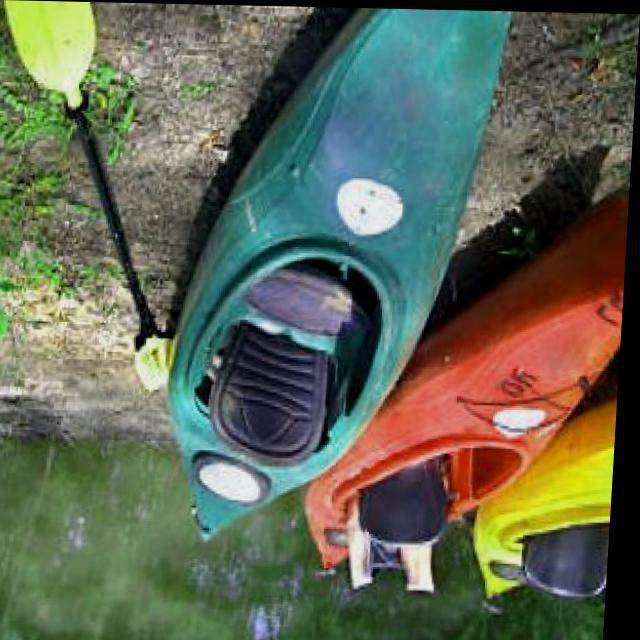kayak: (150, 6, 513, 538), (312, 196, 631, 581), (478, 392, 622, 598)
